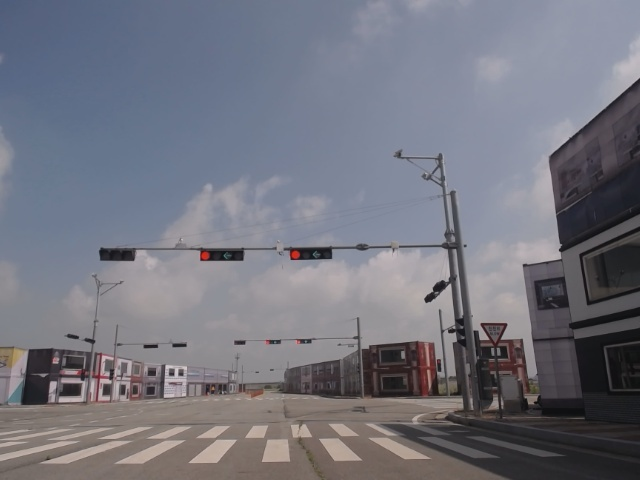left_green_4: (199, 249, 244, 262), (290, 248, 332, 259)
